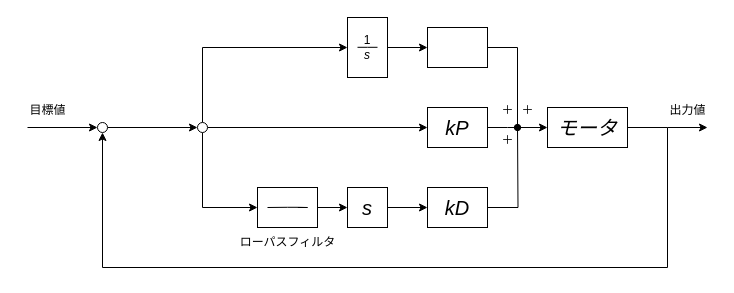
Some shapes in this 734 by 293 pixel diagram are drawn without their labels. Each missing label, with the centre of its shape:
"1 1+Ts" goes at (x=287, y=207).
"k I" goes at (x=457, y=47).
